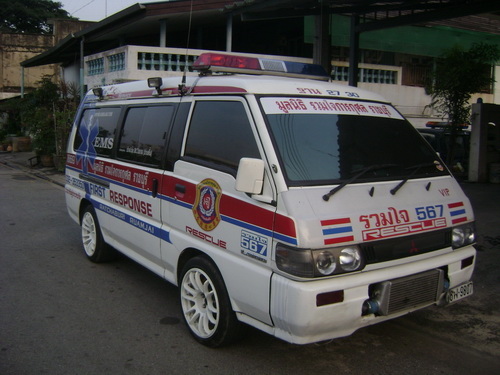van: (61, 72, 479, 349)
